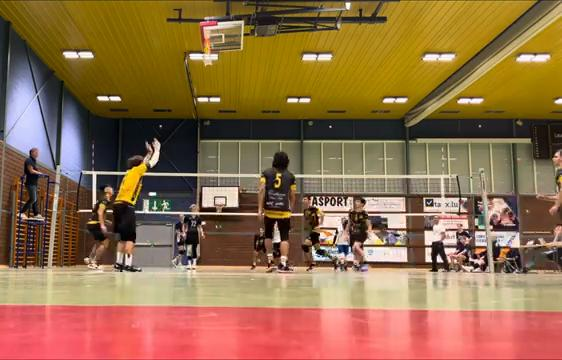difesa: (111, 137, 164, 274)
